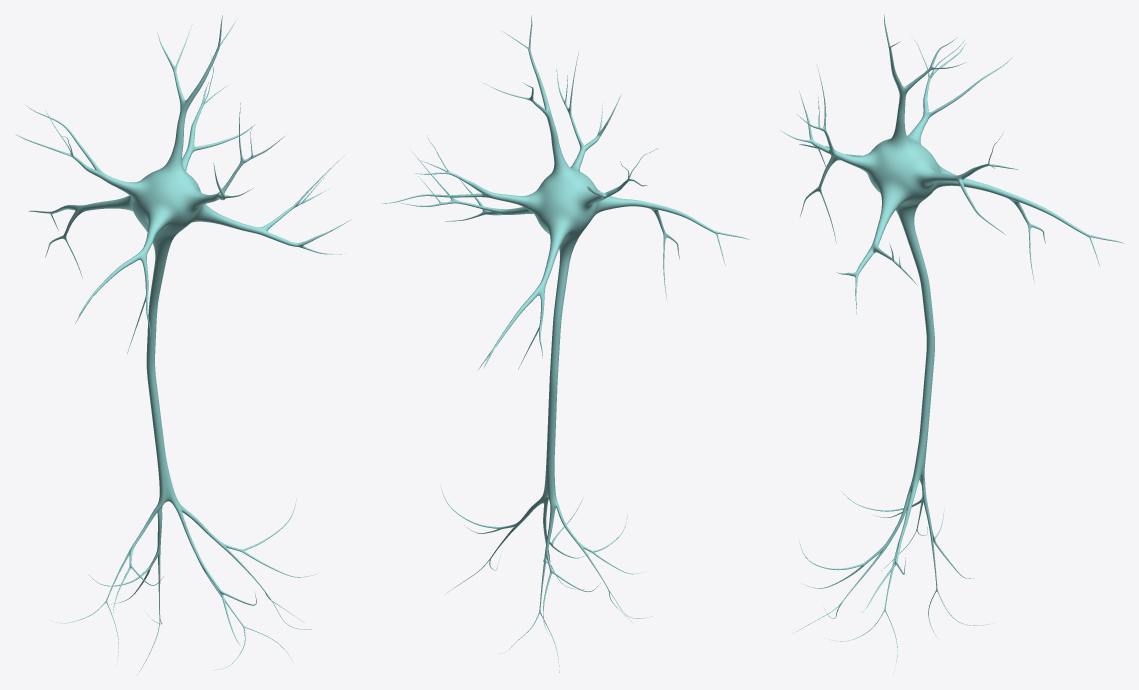
3 renders of one model, left to right at view 1: azimuth 30°, elevation 25°; view 2: azimuth 150°, elevation 25°; view 3: azimuth 270°, elevation 25°, orthographic. The views are drawn at different scales.
Parts seen in each view (by area): view 1: Neuron_0; view 2: Neuron_0; view 3: Neuron_0.
Boxes of the visible parts, box(x1,y1,x2,y2) form: Neuron_0: box(15, 15, 350, 675); Neuron_0: box(381, 15, 749, 672); Neuron_0: box(780, 14, 1123, 673).
Bounding box in the file's own units: 0.3901 × 0.7884 × 0.3787.
